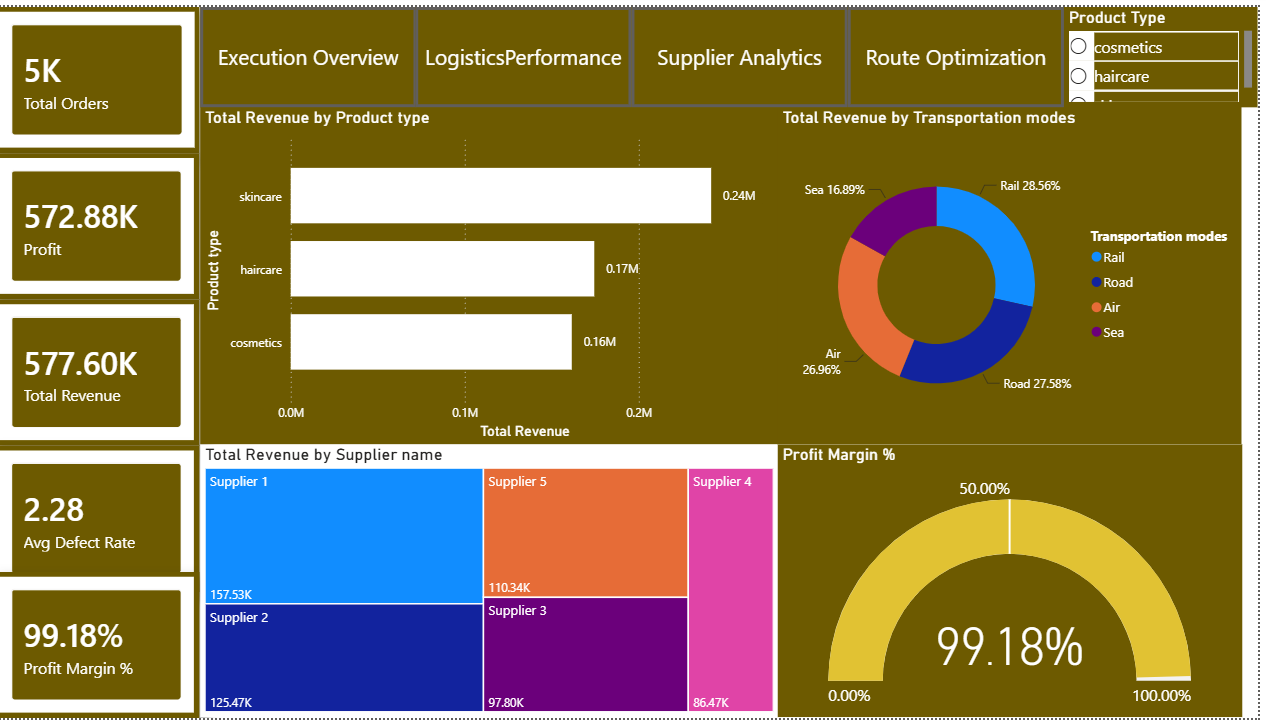

Layout of this report page (visuals, bound fields, positions):
{"tool":"powerbi","page":{"name":"Execution Overview","canvas":[1280,720],"ordinal":0},"visuals":[{"type":"cardVisual","fields":{"Data":["Measure.Total Orders"]},"box":[0,0,208.2,147.7],"z":0},{"type":"cardVisual","fields":{"Data":["Measure.Profit"]},"box":[0,147.9,207.6,147.9],"z":1000},{"type":"cardVisual","fields":{"Data":["Measure.Total Revenue"]},"box":[0,295.8,207.6,147.9],"z":2000},{"type":"cardVisual","fields":{"Data":["Measure.Avg Defect Rate"]},"box":[0,443.7,207.6,147.9],"z":3000},{"type":"cardVisual","fields":{"Data":["Measure.Profit Margin %"]},"box":[0,571.7,207.6,147.9],"z":4000},{"type":"clusteredBarChart","fields":{"Y":["Measure.Total Revenue"],"Category":["Fact_supply chain.Product type"]},"box":[208.2,101.4,585.5,341.7],"z":5000},{"type":"donutChart","fields":{"Category":["Fact_supply chain.Transportation modes"],"Y":["Measure.Total Revenue"]},"box":[793.8,101.4,469.9,341.7],"z":6000},{"type":"treemap","fields":{"Values":["Measure.Total Revenue"],"Group":["Fact_supply chain.Supplier name"]},"box":[208.2,443.2,585.5,275.9],"z":7000},{"type":"gauge","fields":{"Y":["Measure.Profit Margin %"]},"box":[794,443,470,276],"z":8000},{"type":"actionButton","box":[208.2,0,218.9,101.4],"z":9000},{"type":"actionButton","box":[427.1,0,218.9,101.4],"z":10000},{"type":"actionButton","box":[646.1,0,218.9,101.4],"z":11000},{"type":"actionButton","box":[865,0,218.9,101.4],"z":12000},{"type":"listSlicer","fields":{"Values":["Dim_Product.Product Type"]},"box":[1083.9,0,195.8,101.4],"z":13000}]}

Visuals, with their boxes in screenshot pixels (x1, y1, x2, y2), scaled from the page's 1280x720 canvas onto the 1266x722 screenshot:
cardVisual - Measure.Total Orders: box(0, 0, 206, 148)
cardVisual - Measure.Profit: box(0, 148, 205, 297)
cardVisual - Measure.Total Revenue: box(0, 297, 205, 445)
cardVisual - Measure.Avg Defect Rate: box(0, 445, 205, 593)
cardVisual - Measure.Profit Margin %: box(0, 573, 205, 721)
clusteredBarChart - Measure.Total Revenue x Fact_supply chain.Product type: box(206, 102, 785, 444)
donutChart - Fact_supply chain.Transportation modes x Measure.Total Revenue: box(785, 102, 1250, 444)
treemap - Measure.Total Revenue x Fact_supply chain.Supplier name: box(206, 444, 785, 721)
gauge - Measure.Profit Margin %: box(785, 444, 1250, 721)
actionButton: box(206, 0, 422, 102)
actionButton: box(422, 0, 639, 102)
actionButton: box(639, 0, 856, 102)
actionButton: box(856, 0, 1072, 102)
listSlicer - Dim_Product.Product Type: box(1072, 0, 1265, 102)
